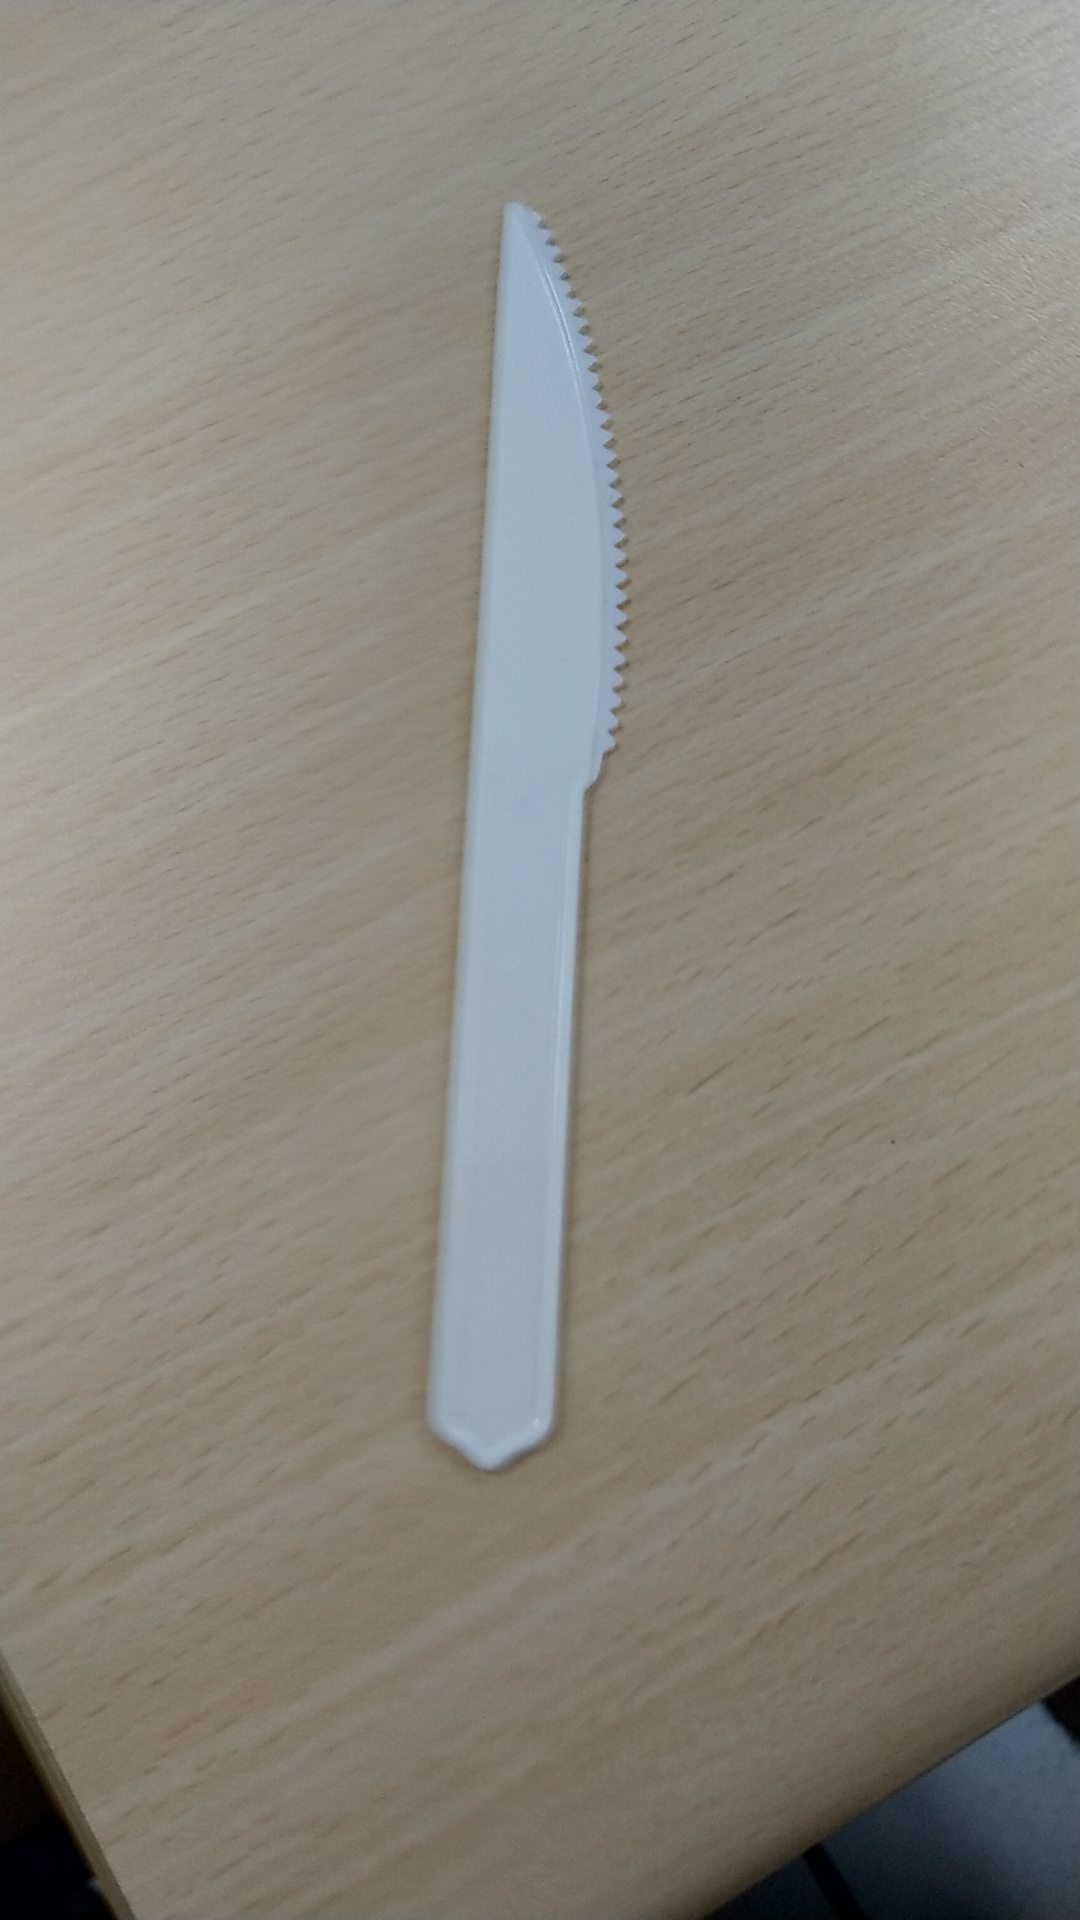knife: (396, 150, 651, 1489)
